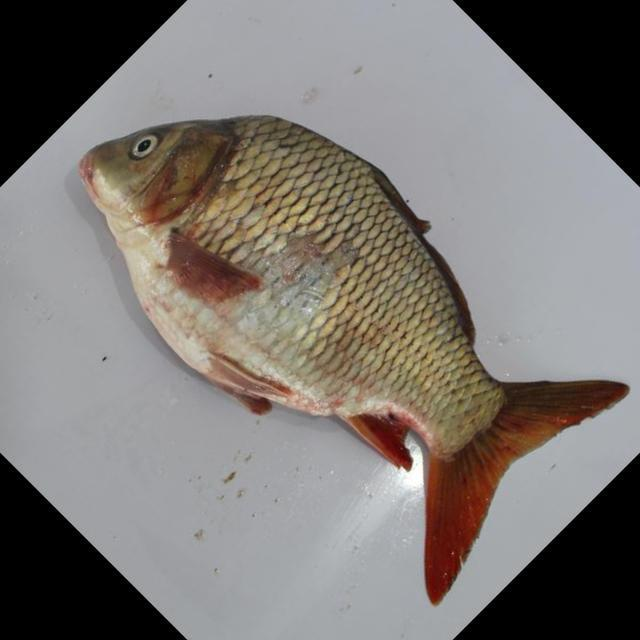CommonCarp: (69, 106, 639, 595)
